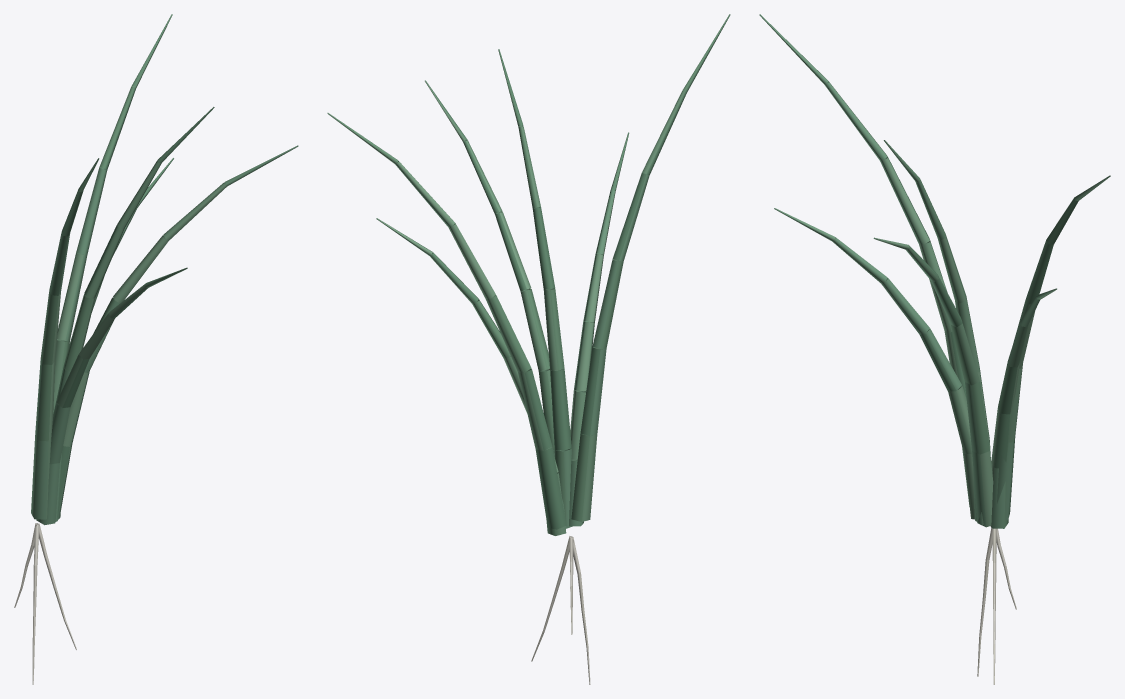
The model's file is oignon_feuilles.glb.
3 views of the same model, side by side, from view 1: azimuth 30°, elevation 25°; view 2: azimuth 150°, elevation 25°; view 3: azimuth 270°, elevation 25° (orthographic). The views are drawn at different scales.
Visible parts, largest first — view 1: Oignon_Feuilles, Oignon_Racines; view 2: Oignon_Feuilles, Oignon_Racines; view 3: Oignon_Feuilles, Oignon_Racines.
Boxes of the visible parts, x1,y1,x2,y2 form: Oignon_Feuilles: (31,14,298,525); Oignon_Racines: (14,523,76,684); Oignon_Feuilles: (327,14,730,535); Oignon_Racines: (531,536,590,684); Oignon_Feuilles: (759,14,1110,528); Oignon_Racines: (977,528,1016,684).
Size of the model in its own units: 0.1726 by 0.3959 by 0.1963.
